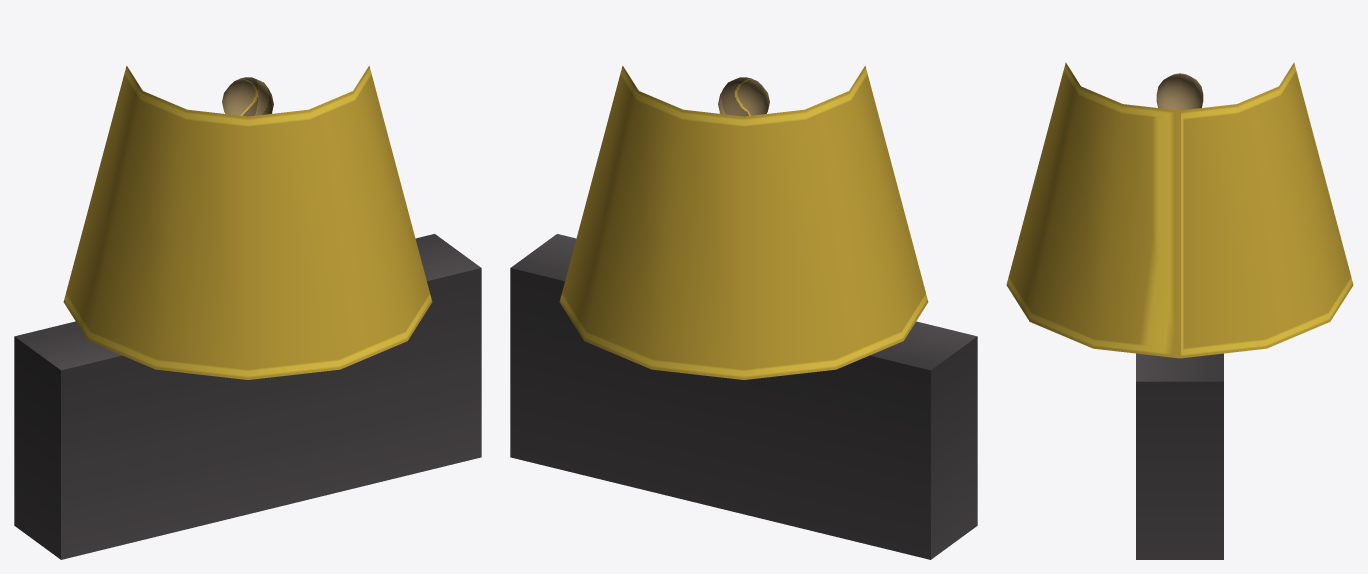
File: treasury_dial_vault.glb
3 renders of one model, left to right at view 1: azimuth 30°, elevation 25°; view 2: azimuth 150°, elevation 25°; view 3: azimuth 270°, elevation 25°, orthographic. The views are drawn at different scales.
Parts seen in each view (by area): view 1: treasury_dial_vault; view 2: treasury_dial_vault; view 3: treasury_dial_vault.
Boxes of the visible parts, bbox=[...] form: treasury_dial_vault: bbox=[14, 66, 481, 559]; treasury_dial_vault: bbox=[510, 66, 977, 559]; treasury_dial_vault: bbox=[1006, 62, 1353, 559].
Bounding box in the file's own units: 2.6 × 2.52 × 1.98.
1 material, 1 textured.
